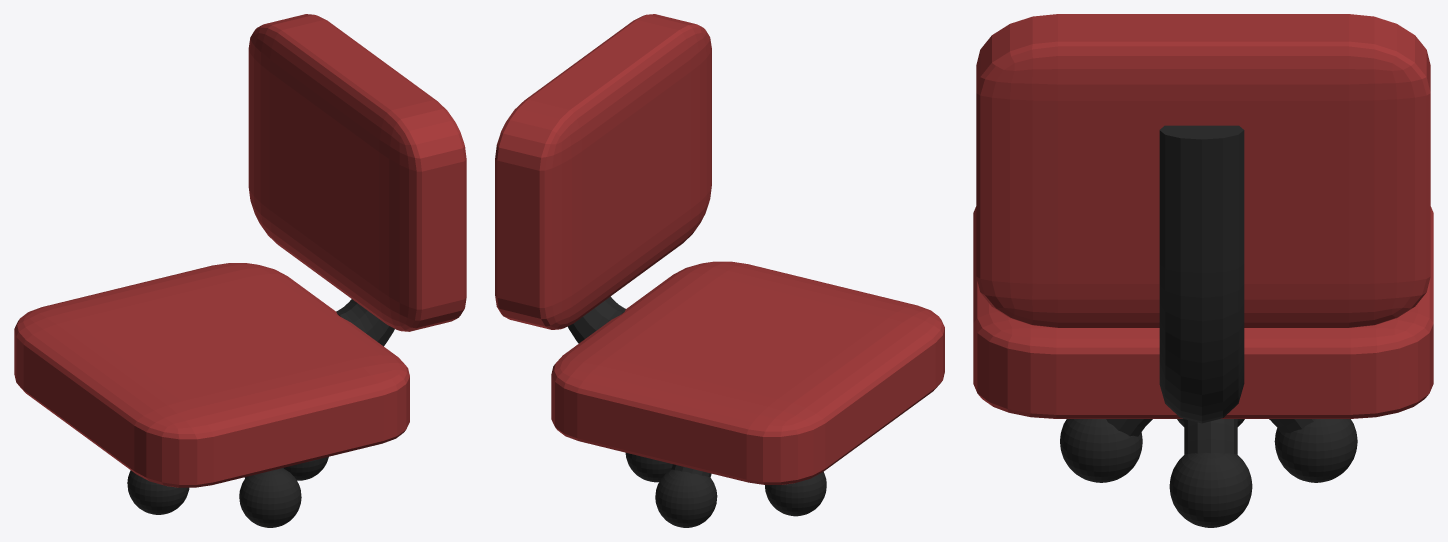
Rendered from cadeira vermelha.fbx.
3 renders of one model, left to right at view 1: azimuth 30°, elevation 25°; view 2: azimuth 150°, elevation 25°; view 3: azimuth 270°, elevation 25°, orthographic. The views are drawn at different scales.
Parts seen in each view (by area): view 1: Cube.007, Cube.006, Sphere, Sphere.002, Torus.002; view 2: Cube.007, Cube.006, Sphere, Sphere.002, Torus.002; view 3: Cube.006, Cube.007, Torus.002, Sphere, Sphere.002, Torus.
Boxes of the visible parts, bbox=[...] form: Cube.007: bbox=[14, 263, 409, 487]; Cube.006: bbox=[248, 14, 466, 331]; Sphere: bbox=[239, 468, 301, 527]; Sphere.002: bbox=[127, 456, 328, 514]; Torus.002: bbox=[336, 299, 394, 346]; Cube.007: bbox=[551, 261, 944, 484]; Cube.006: bbox=[495, 14, 711, 329]; Sphere: bbox=[655, 469, 717, 527]; Sphere.002: bbox=[625, 453, 826, 516]; Torus.002: bbox=[567, 296, 625, 343]; Cube.006: bbox=[976, 14, 1430, 327]; Cube.007: bbox=[973, 206, 1433, 418]; Torus.002: bbox=[1159, 125, 1244, 423]; Sphere: bbox=[1060, 419, 1357, 482]; Sphere.002: bbox=[1169, 419, 1252, 527]; Torus: bbox=[1106, 419, 1315, 454].
Size of the model in its own units: 173 by 199 by 156.
